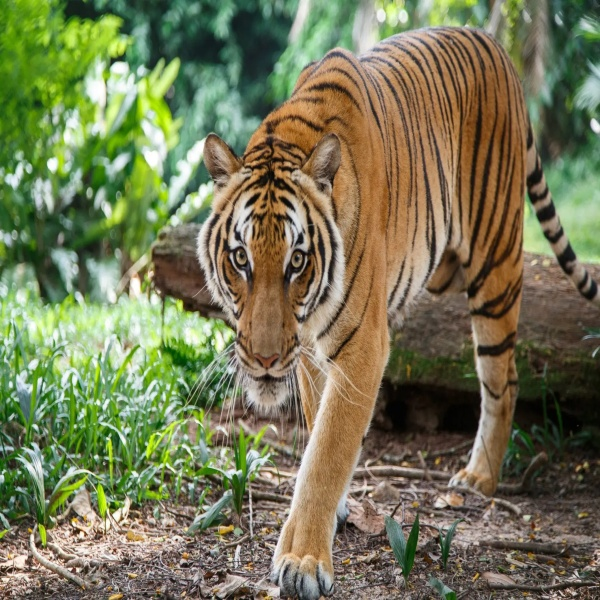Tiger: (194, 22, 600, 599)
